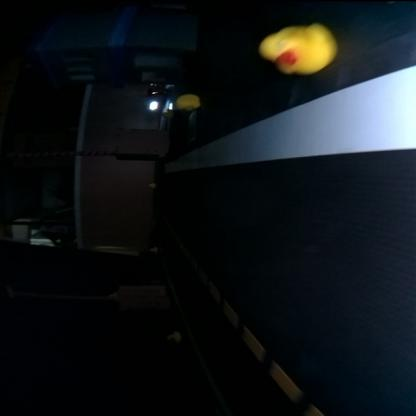Duckie: (258, 24, 332, 74), (175, 95, 199, 110), (168, 331, 180, 343)
